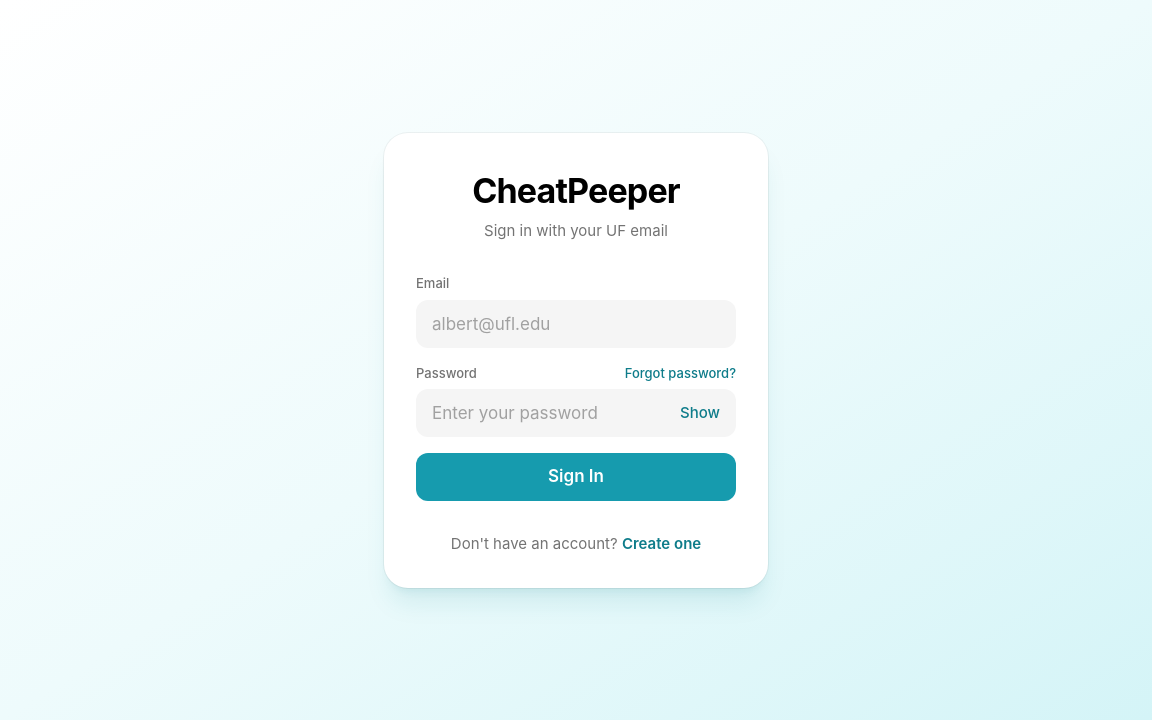
it: LoginPage › sends the email and password to the backend and shows a success message
In the field labelled "Email": (576, 324) [416,300,736,348], type "Albert@ufl.edu"
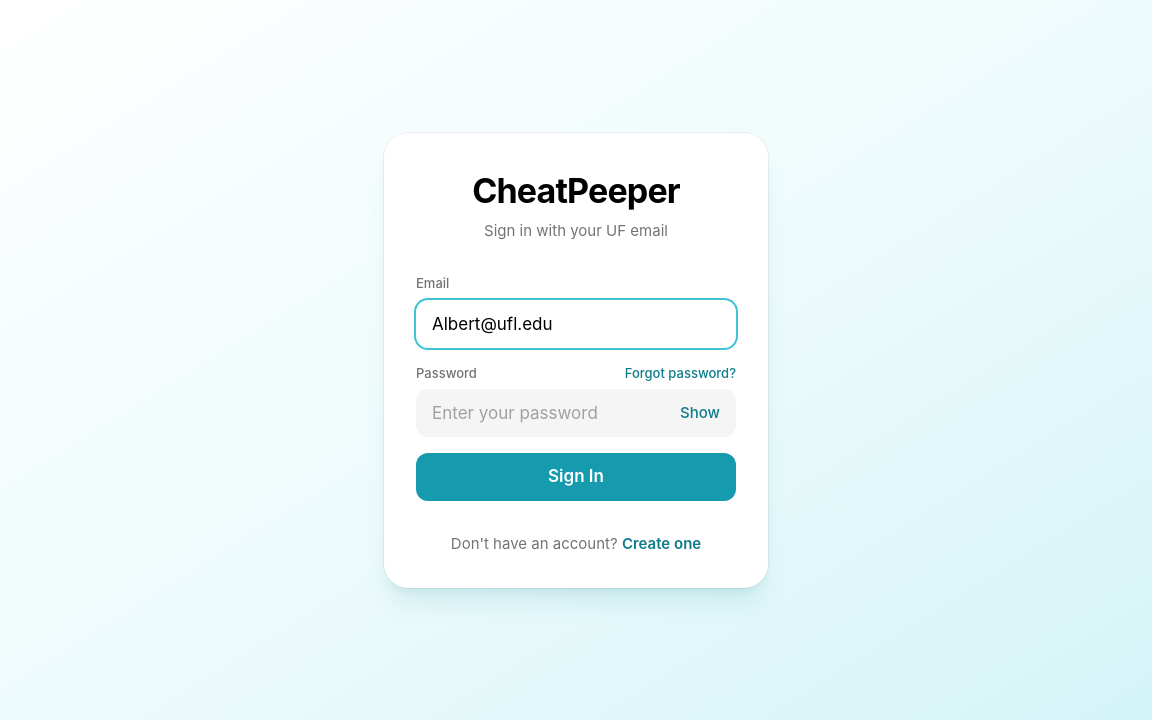
In the password field labelled "Password": (576, 413) [416,389,736,437], type "password123"
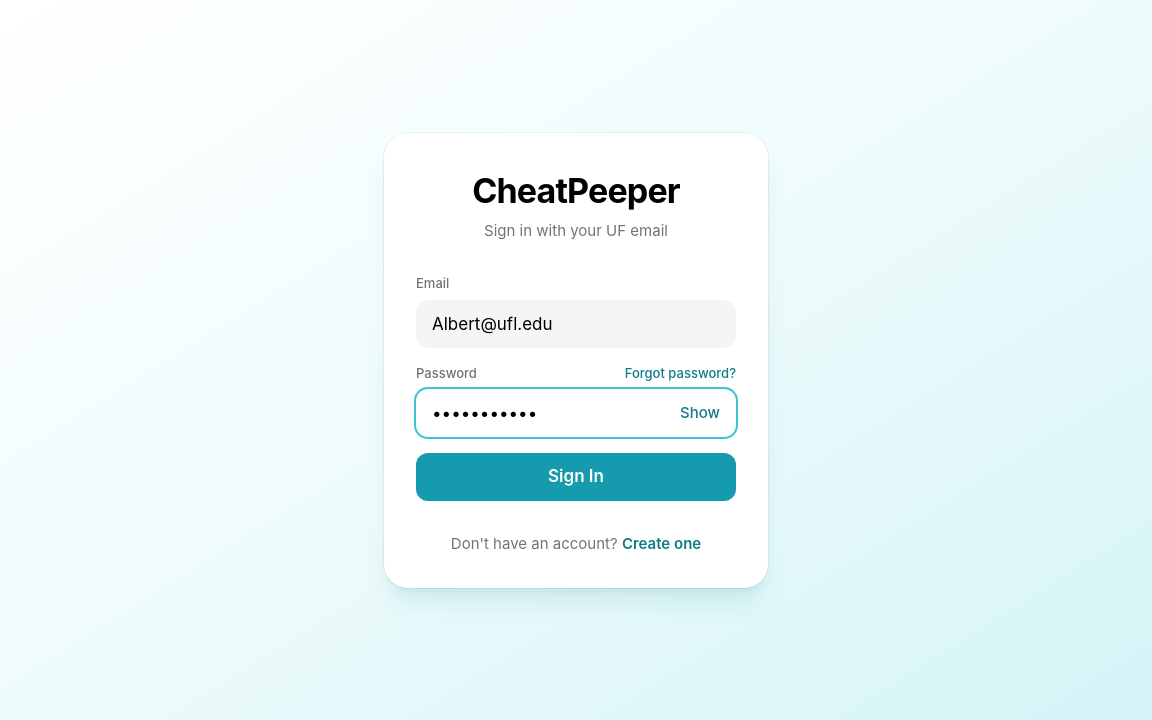
Click the button "Sign In": (576, 477) [416,453,736,501]
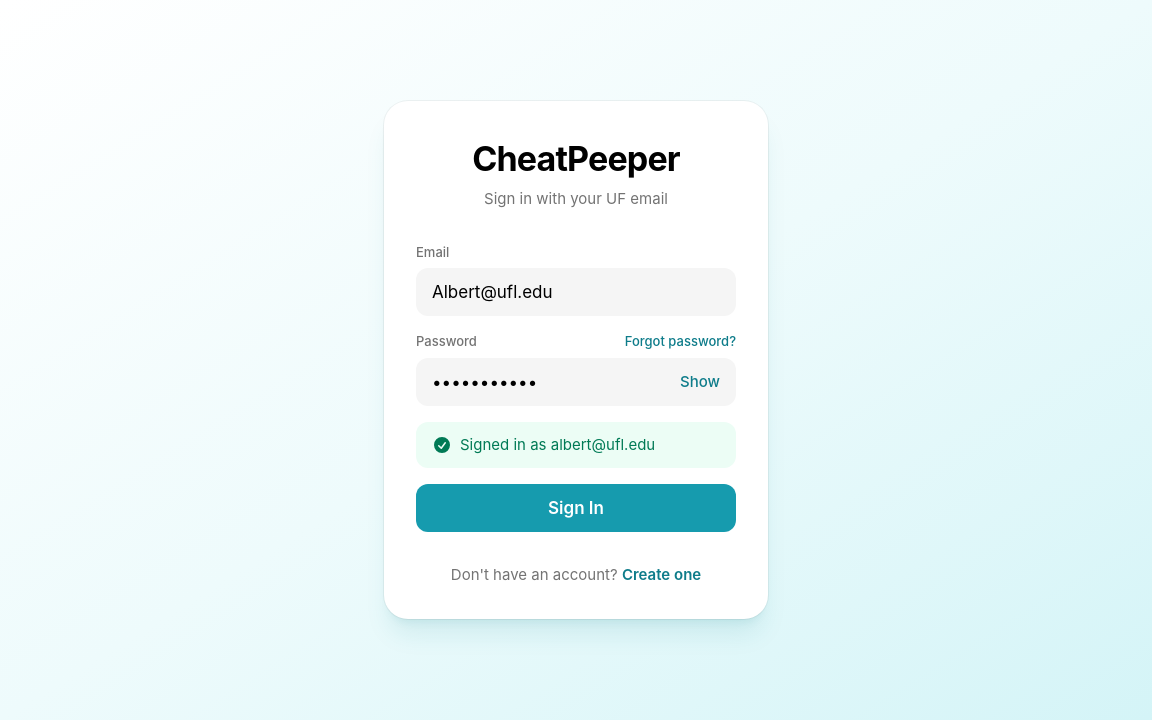
Expected: the message reads "Signed in as albert@ufl.edu", [416,422,736,468]
